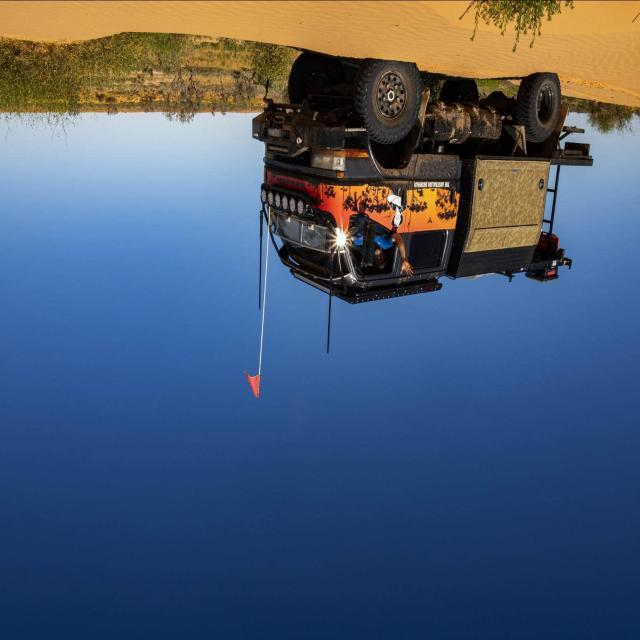truck: (249, 67, 598, 302)
